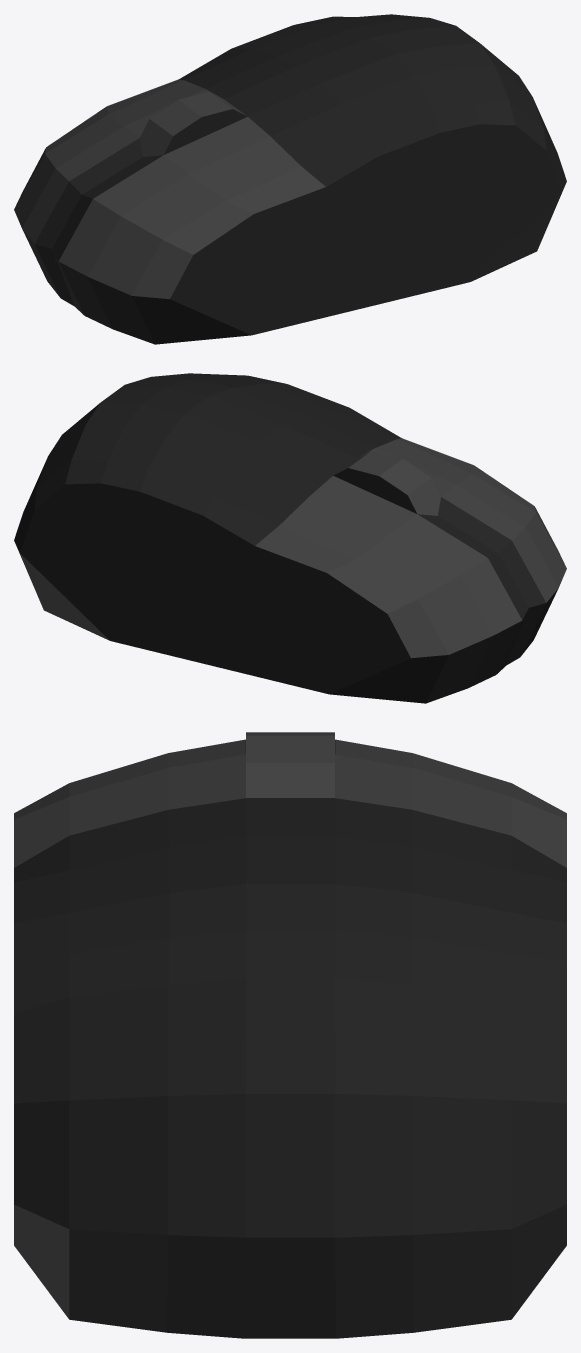
File: mouse_better.glb
3 renders of one model, top to bottom at view 1: azimuth 30°, elevation 25°; view 2: azimuth 150°, elevation 25°; view 3: azimuth 270°, elevation 25°, orthographic. The views are drawn at different scales.
Parts seen in each view (by area): view 1: Cube; view 2: Cube; view 3: Cube.
Boxes of the visible parts, x1,y1,x2,y2 form: Cube: (14,14,566,344); Cube: (14,373,566,703); Cube: (14,732,566,1338).
Size of the model in its own units: 0.1852 by 0.0676 by 0.0971.
2 materials, 2 textured.
